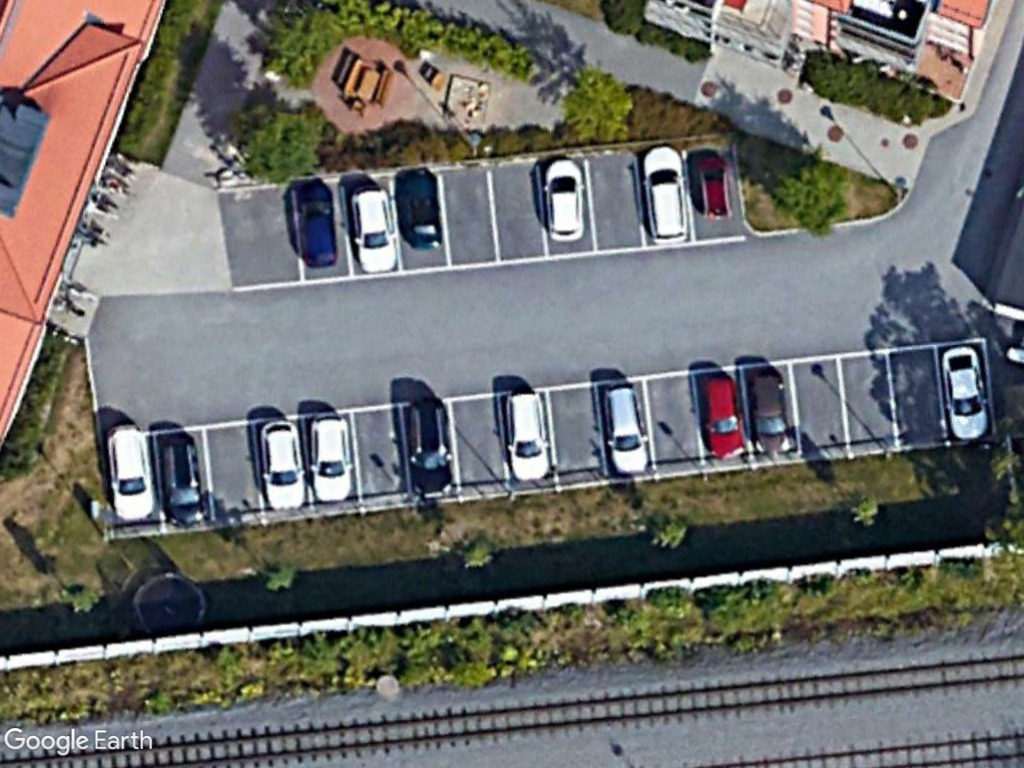car: (100, 421, 163, 527), (403, 389, 458, 505), (936, 339, 993, 448), (636, 140, 692, 250), (153, 428, 212, 531), (599, 376, 656, 481), (499, 385, 556, 490), (253, 414, 311, 515), (342, 181, 403, 277), (289, 176, 347, 273), (302, 408, 357, 510), (395, 160, 450, 256), (694, 369, 748, 462), (539, 153, 593, 245), (747, 365, 794, 461), (688, 146, 737, 227)
